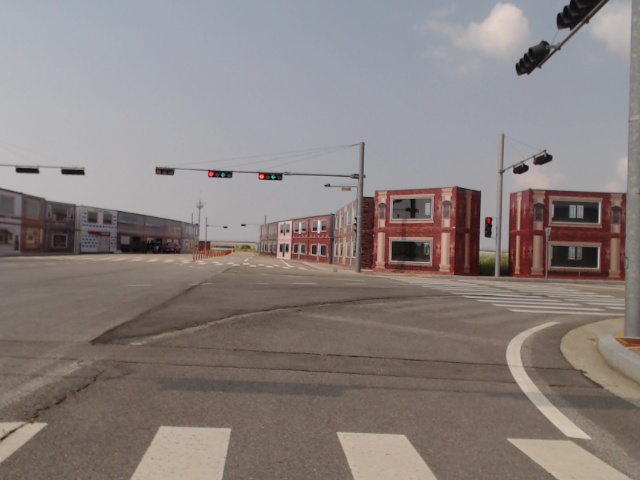left_green_4: (208, 171, 232, 178), (259, 174, 283, 181)
